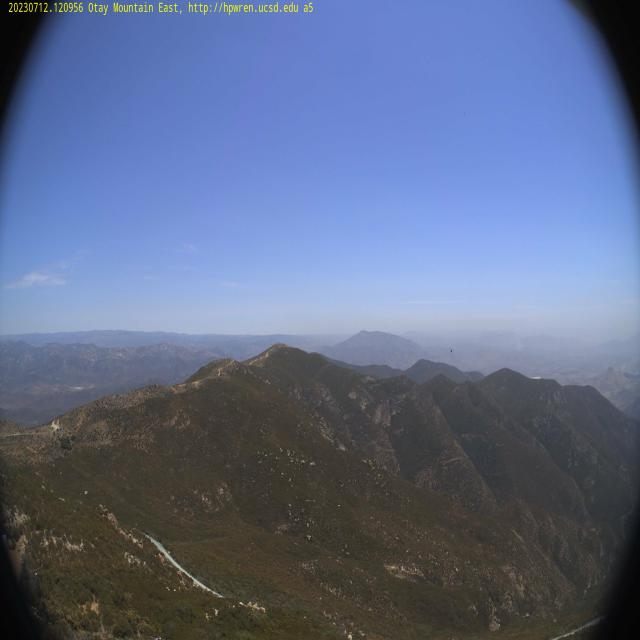smoke: (510, 326, 525, 354)
